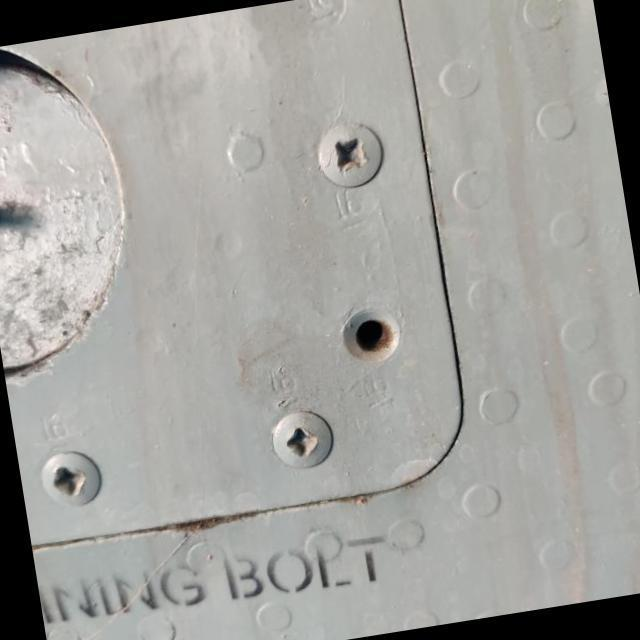Fastener Damage: (289, 253, 447, 408)
